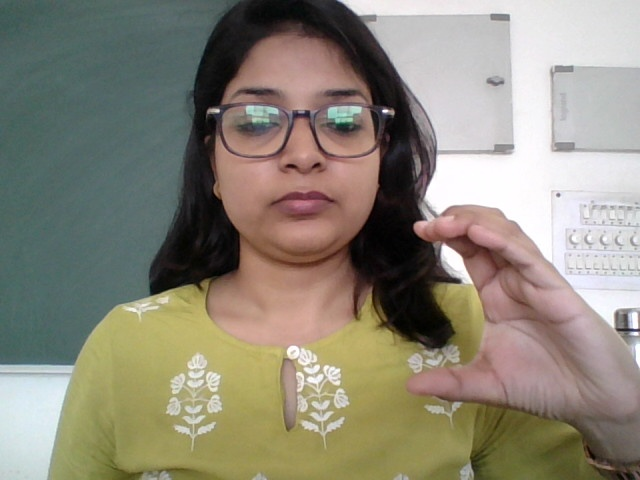C: (404, 202, 622, 434)
